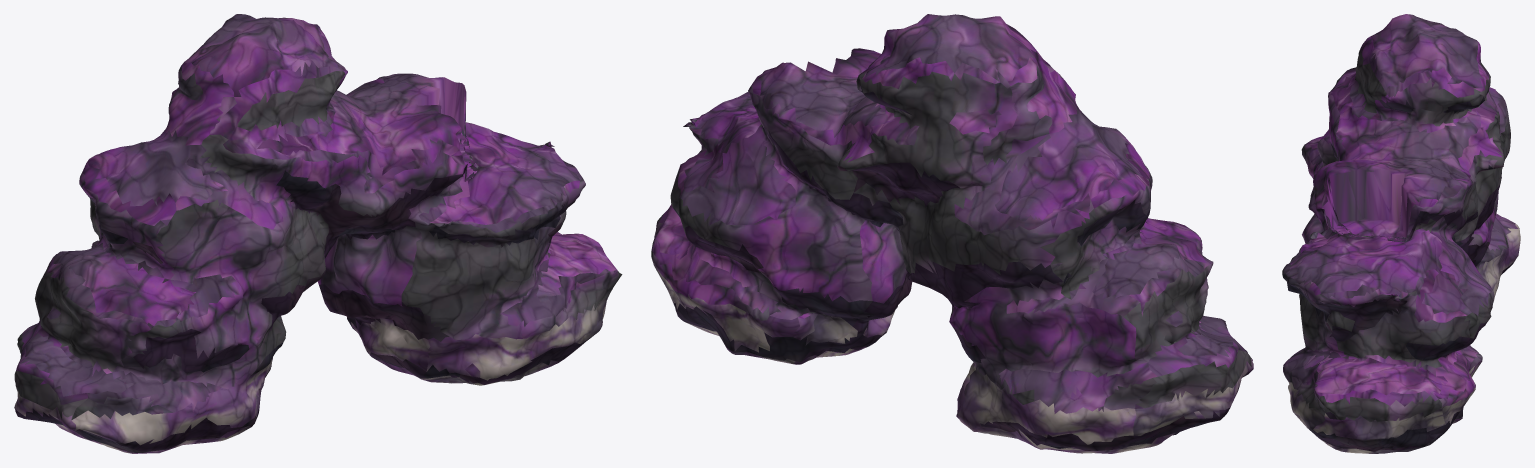
The model's file is reef-nsa-cave-buttress.glb.
3 views of the same model, side by side, from view 1: azimuth 30°, elevation 25°; view 2: azimuth 150°, elevation 25°; view 3: azimuth 270°, elevation 25° (orthographic). The views are drawn at different scales.
Visible parts, largest first — view 1: Reef_NSA_Cave_Buttress; view 2: Reef_NSA_Cave_Buttress; view 3: Reef_NSA_Cave_Buttress.
Part boxes in pixels (x1,y1,x2,y2): Reef_NSA_Cave_Buttress: (14,14,622,453); Reef_NSA_Cave_Buttress: (651,14,1253,453); Reef_NSA_Cave_Buttress: (1282,14,1520,453).
Bounding box in the file's own units: 0.8377 × 0.5091 × 0.3491.
Materials: 1 (1 with a texture image).
